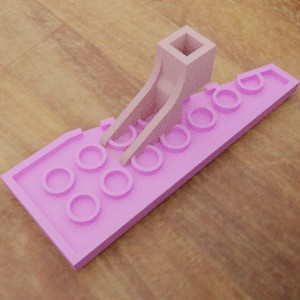lego: (0, 63, 299, 271), (99, 24, 216, 171)
